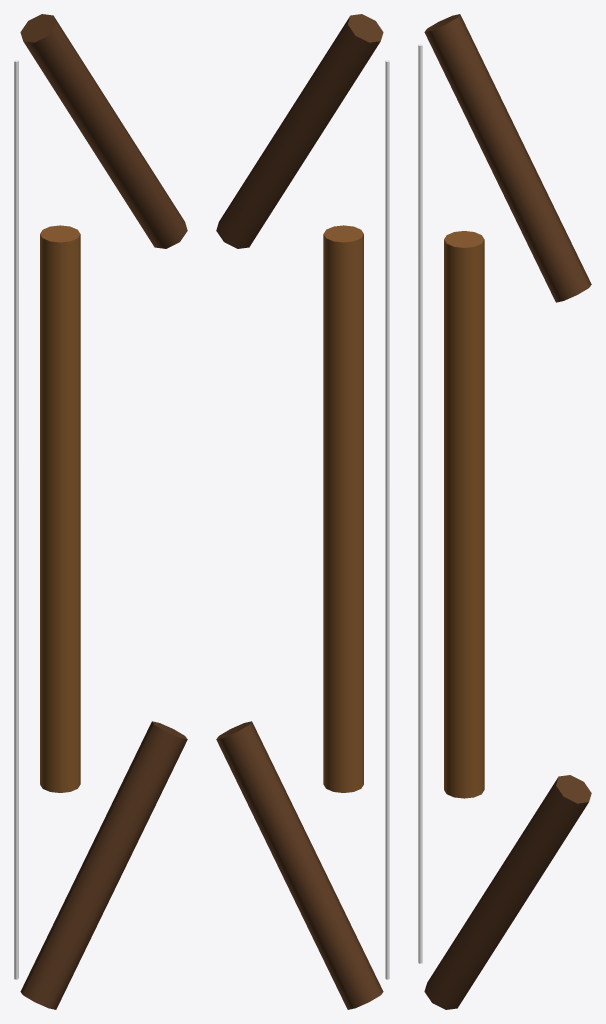
Rendered from default_bow.glb.
3 renders of one model, left to right at view 1: azimuth 30°, elevation 25°; view 2: azimuth 150°, elevation 25°; view 3: azimuth 330°, elevation 25°, orthographic.
Parts seen in each view (by area): view 1: Bow; view 2: Bow; view 3: Bow.
Part boxes in pixels (bbox=[...]): Bow: bbox=[14, 14, 187, 1009]; Bow: bbox=[216, 14, 389, 1009]; Bow: bbox=[418, 14, 591, 1009].
Size of the model in its own units: 0.3896 by 2.16 by 0.08.
